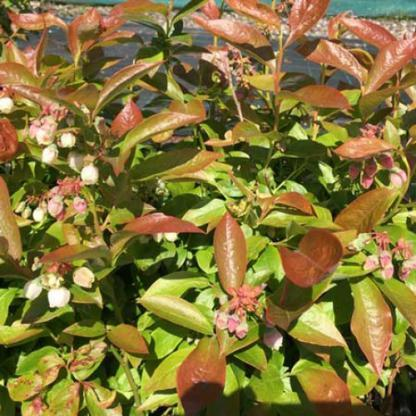Blueberry leaf: (268, 220, 364, 294), (340, 260, 398, 376), (166, 326, 242, 413), (89, 56, 170, 121), (120, 146, 222, 188), (127, 203, 214, 251), (216, 205, 252, 304), (278, 78, 355, 116), (102, 318, 159, 362)
